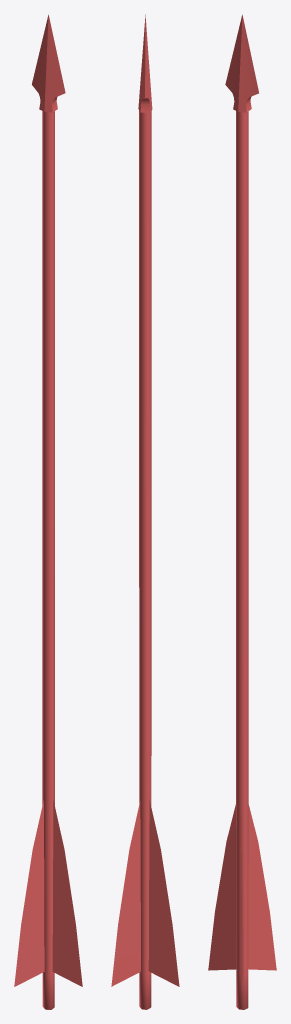
Rendered from model_arrow_modern_5.FBX.
The picture shows the model from 3 angles, left to right: view 1: azimuth 90°, elevation 25°; view 2: azimuth 210°, elevation 25°; view 3: azimuth 270°, elevation 25°; orthographic projection.
Parts seen in each view (by area): view 1: model_arrow_modern_5; view 2: model_arrow_modern_5; view 3: model_arrow_modern_5.
Part boxes in pixels (x1,y1,x2,y2): model_arrow_modern_5: [14, 14, 82, 1009]; model_arrow_modern_5: [111, 14, 179, 1009]; model_arrow_modern_5: [208, 14, 276, 1009].
Size of the model in its own units: 5.19 by 96.98 by 6.06.
